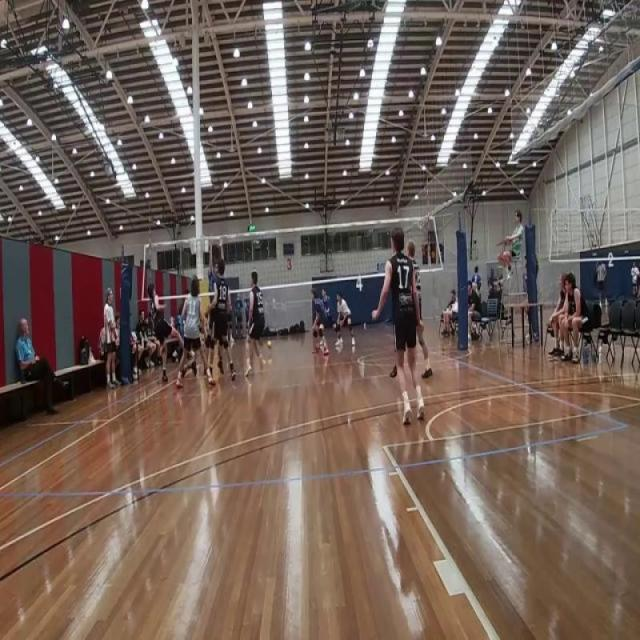volleyball: (266, 340, 272, 350)
